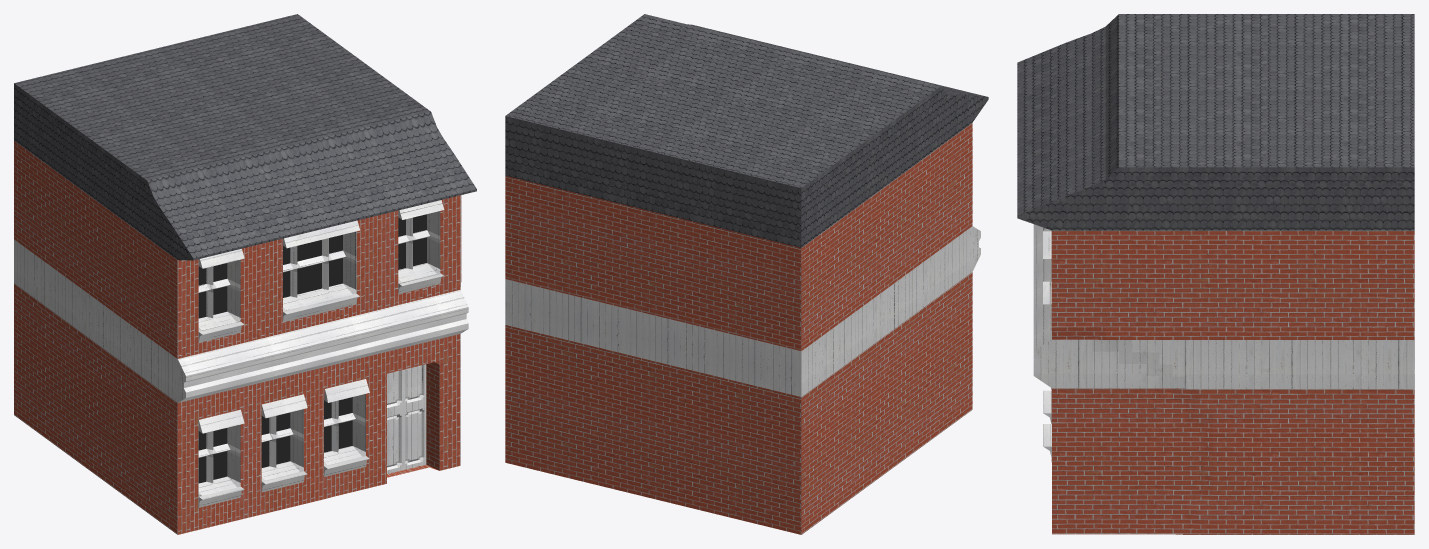
Rendered from HouseRedo.gltf.
3 renders of one model, left to right at view 1: azimuth 30°, elevation 25°; view 2: azimuth 150°, elevation 25°; view 3: azimuth 270°, elevation 25°, orthographic. The views are drawn at different scales.
Visible parts, largest first — view 1: Cube; view 2: Cube; view 3: Cube.
Boxes of the visible parts, left/top/right/bottom form: Cube: left=14, top=14, right=476, bottom=534; Cube: left=505, top=14, right=988, bottom=534; Cube: left=1017, top=14, right=1414, bottom=534.
Size of the model in its own units: 2.5 by 2.8 by 2.74.
4 materials, 3 textured.
